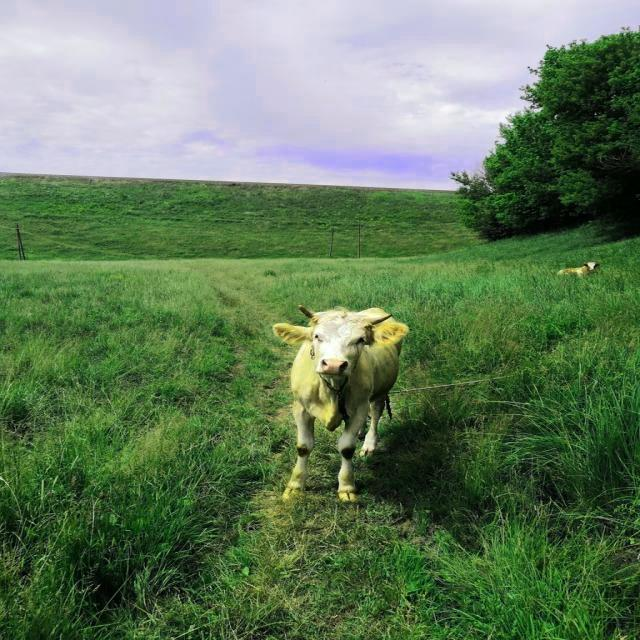cow: (272, 306, 409, 501)
